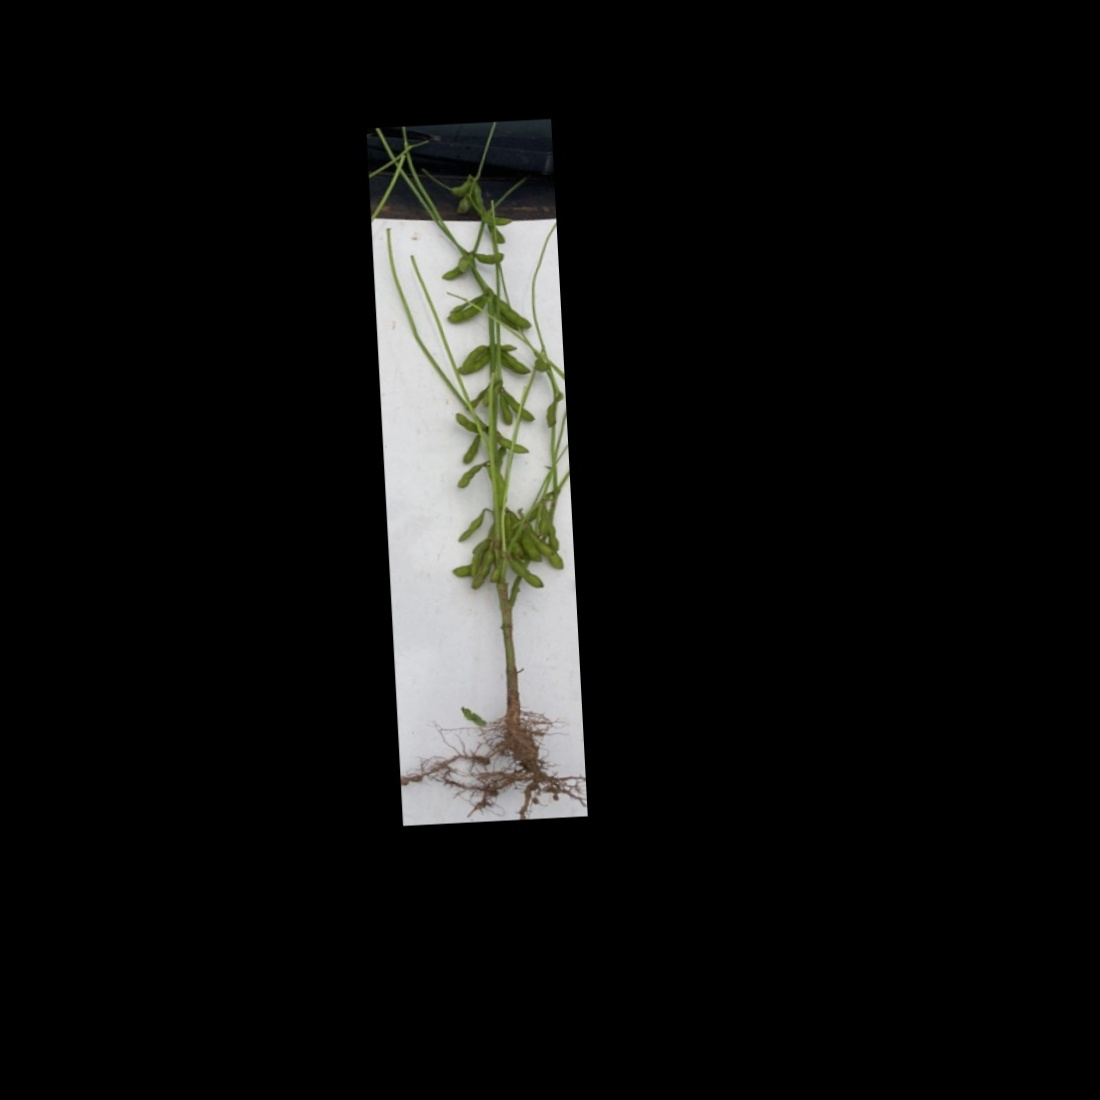pod: (494, 292, 536, 333), (504, 554, 545, 593), (452, 507, 490, 544), (453, 459, 491, 491), (493, 427, 531, 457), (497, 348, 532, 379), (458, 431, 486, 467), (458, 341, 489, 369), (477, 211, 518, 228), (467, 251, 510, 266)
soy: (400, 145, 577, 804)
